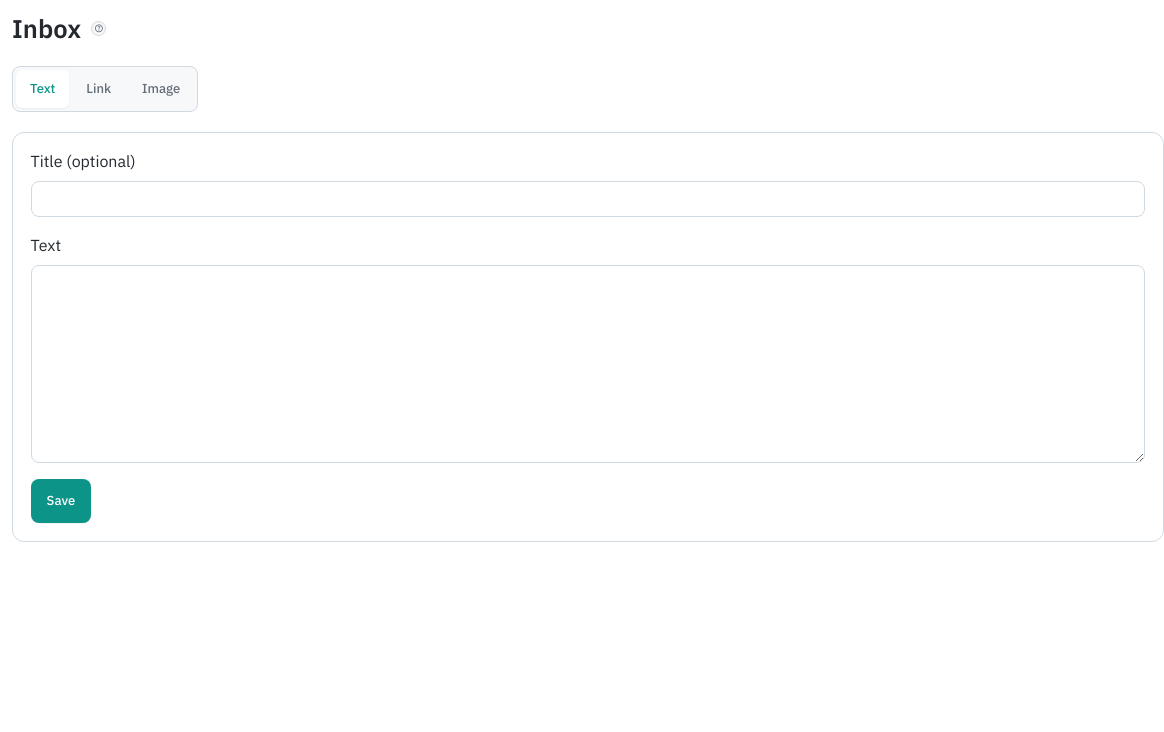
Test: InboxPage › shows only the active capture panel and switches tabs
The image size is (1164, 732).
Expected: the number of panels is 1, [31,149,1145,523]
Press ArrowRight in the tab with id "capture-tab-text", box [16,70,69,108]
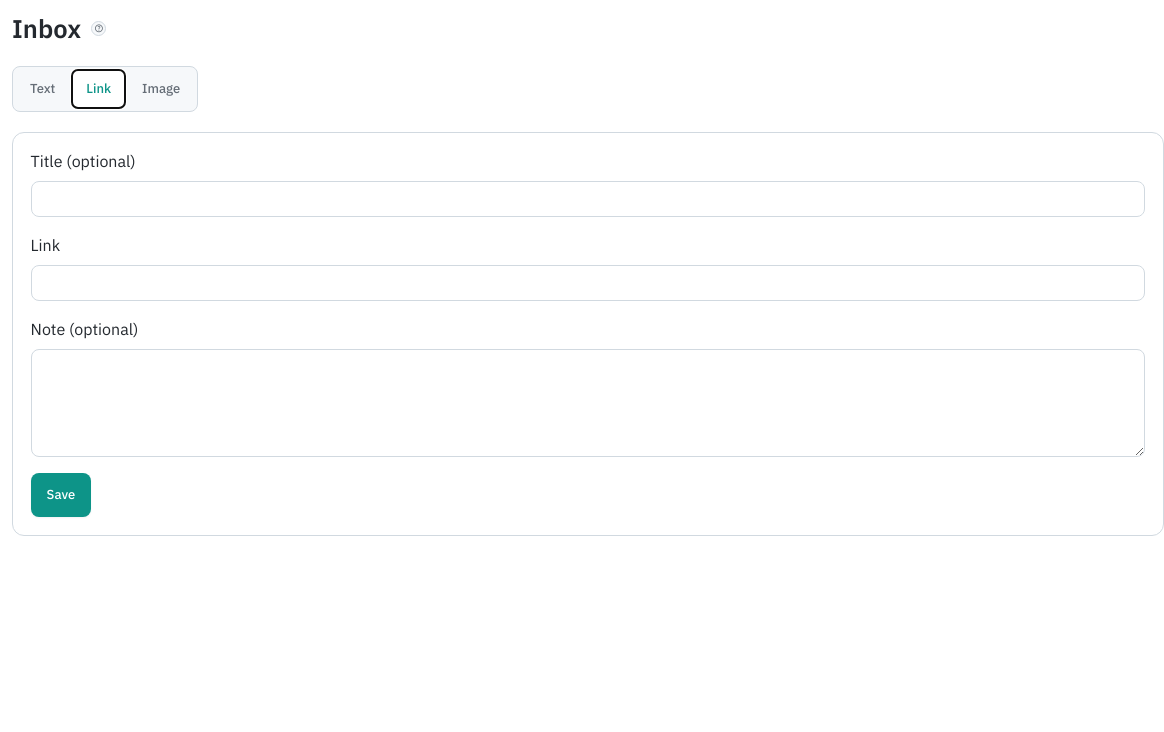
Now the tab with id "capture-tab-url" is selected, box [72,70,125,108]
Click the tab with id "capture-tab-image".
click(161, 89)  # box [128,70,194,108]
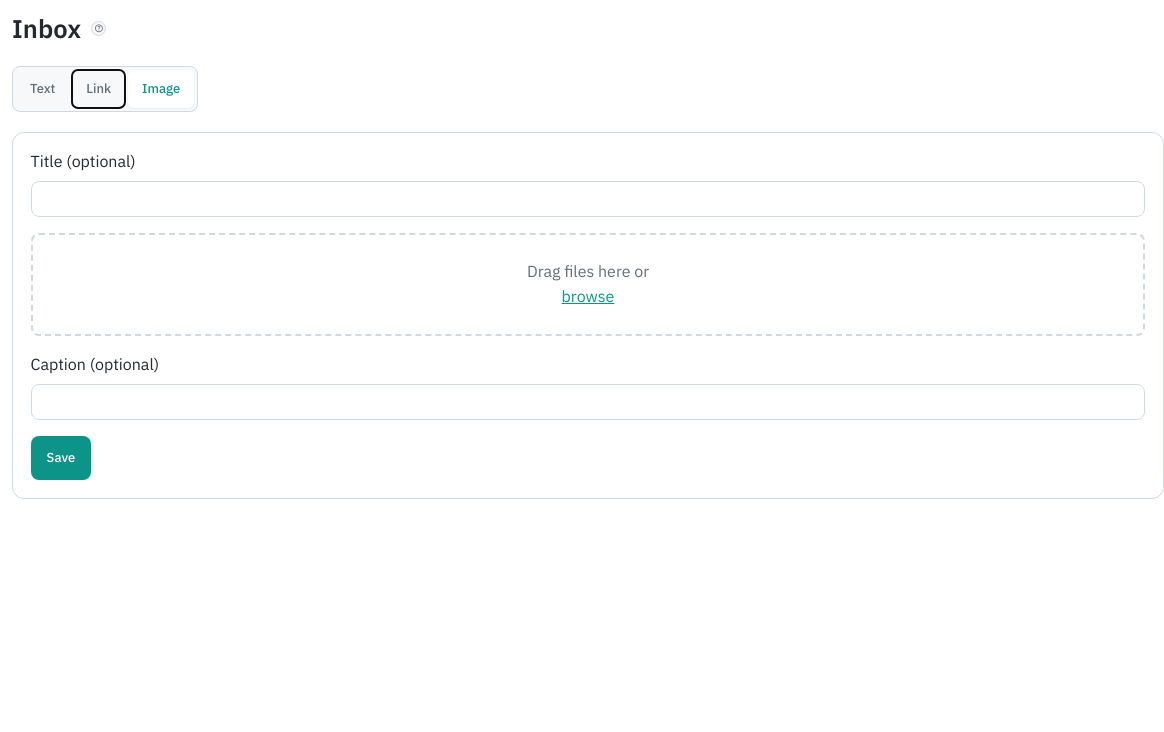
Now the text "Drag files here or" is shown, box [527,261,649,281]
Now the text "browse" is shown, box [562,286,614,306]
Now the number of panels is 1, box [31,149,1145,480]
